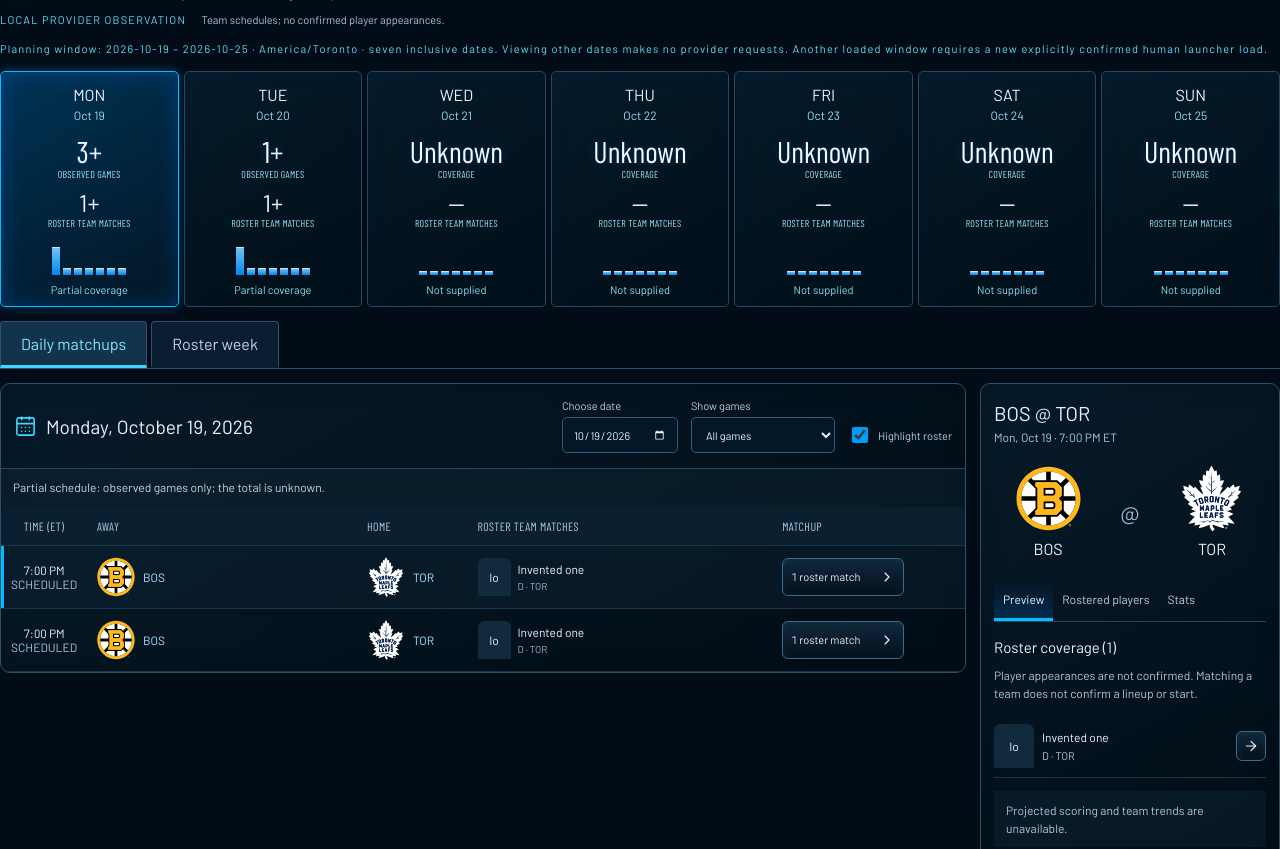
Test case: roster weekly observations › flags distinct same-date observations without multiplying back-to-back opportunities
This screenshot has width=1280, height=849.
Step 1. Click the tab "Roster week" → point(215, 345), box 151,321 -> 279,368
(page scrolled)
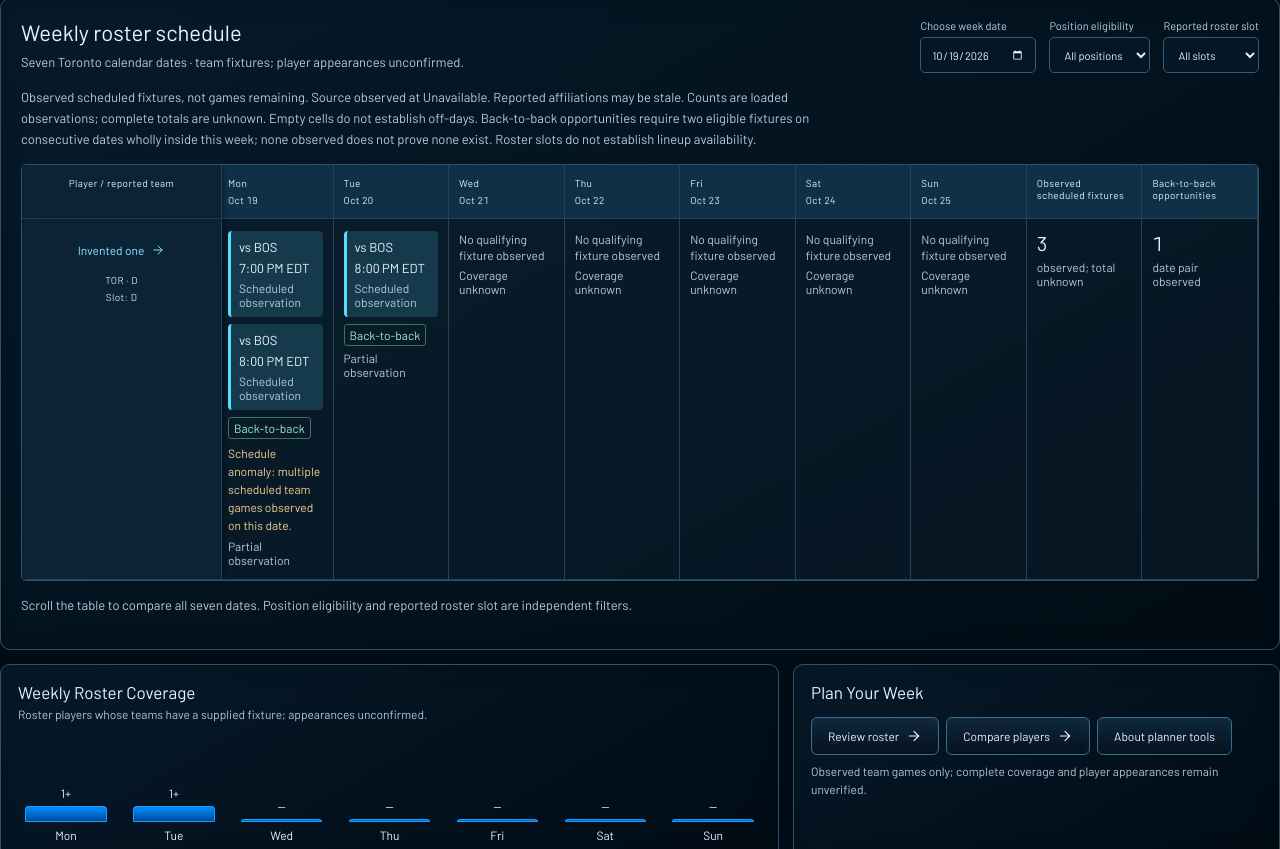
Expected: the text "Schedule anomaly: multiple scheduled team games observed on this date." is shown, 228,444 -> 322,534
Expected: the cell "1 date pair observed" is shown, 1142,219 -> 1258,580
